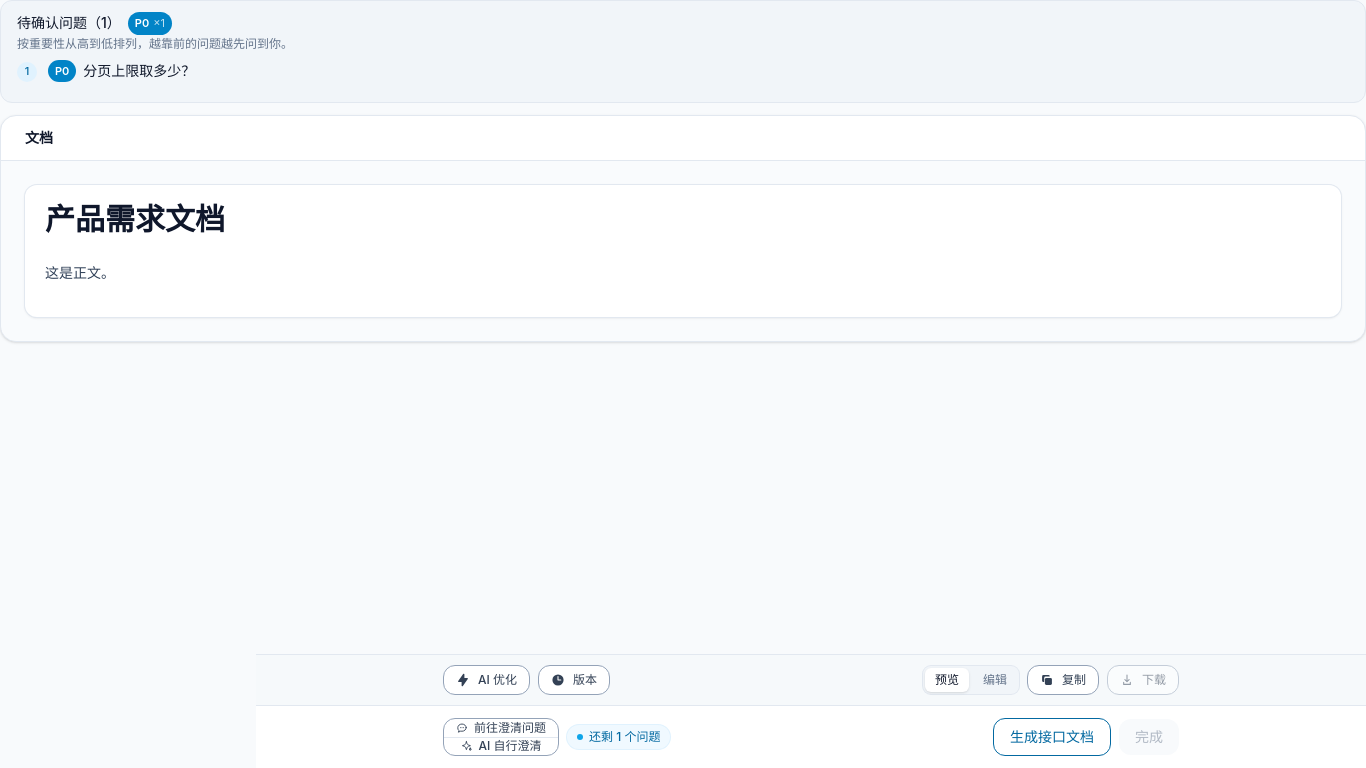
ReviewStage 的澄清入口 › 点「AI 自行澄清」先弹确认窗，确认后才发出 autoClarify
The width and height of the screenshot is (1366, 768).
Click the button "AI 自行澄清" at point(501, 746), box [444,738,558,755]
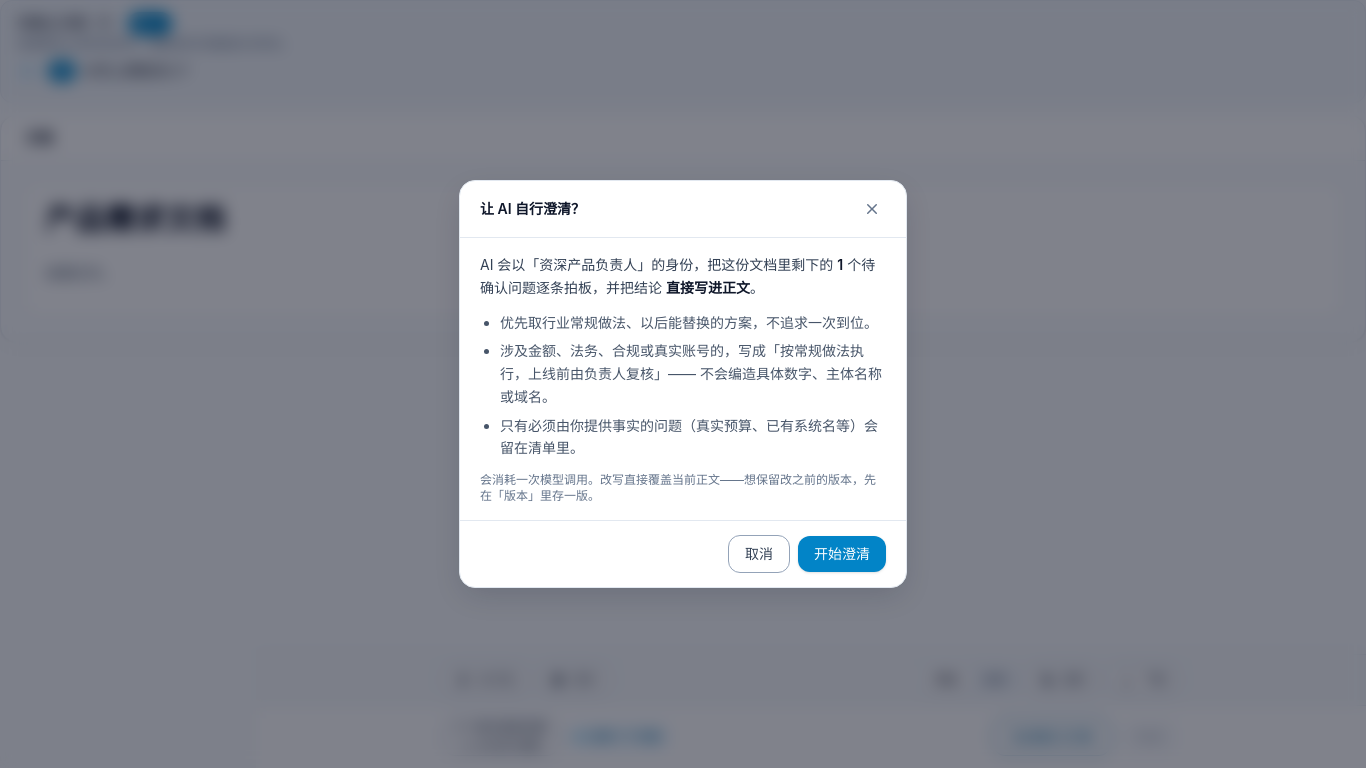
Result: the text "让 AI 自行澄清？" is shown at [480,199,585,219]
Result: the text "逐条拍板" is shown at [480,256,875,296]
Result: the text "直接写进正文" is shown at [666,279,750,296]
Click the button "开始澄清" at point(842, 554), box [798,536,886,572]
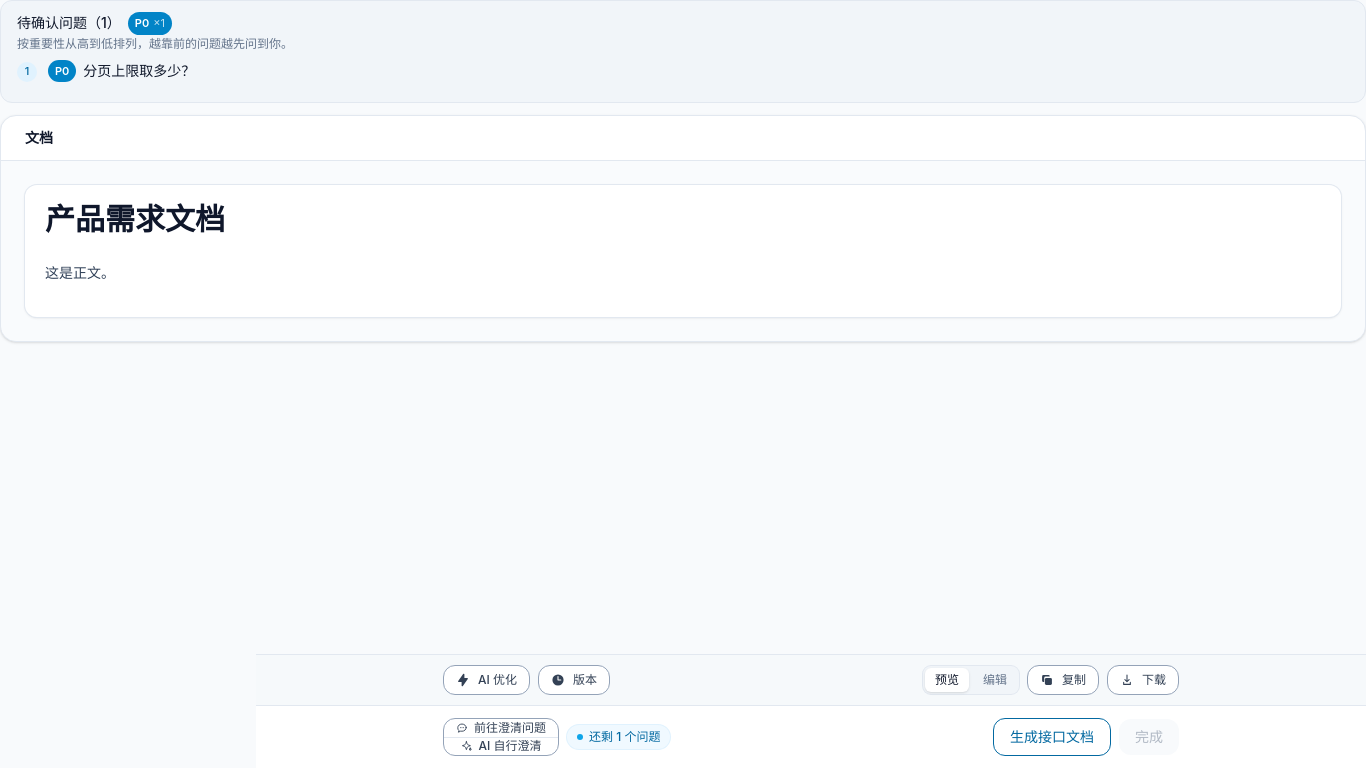
Result: the text "让 AI 自行澄清？" is gone
